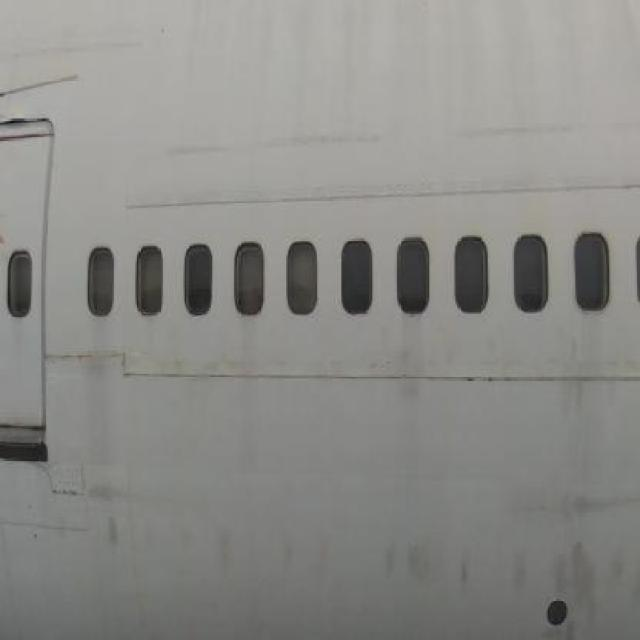Scartch: (377, 534, 640, 638), (164, 126, 384, 172), (501, 469, 639, 531), (86, 468, 160, 554), (270, 519, 342, 596), (453, 115, 584, 151), (174, 512, 240, 582)
